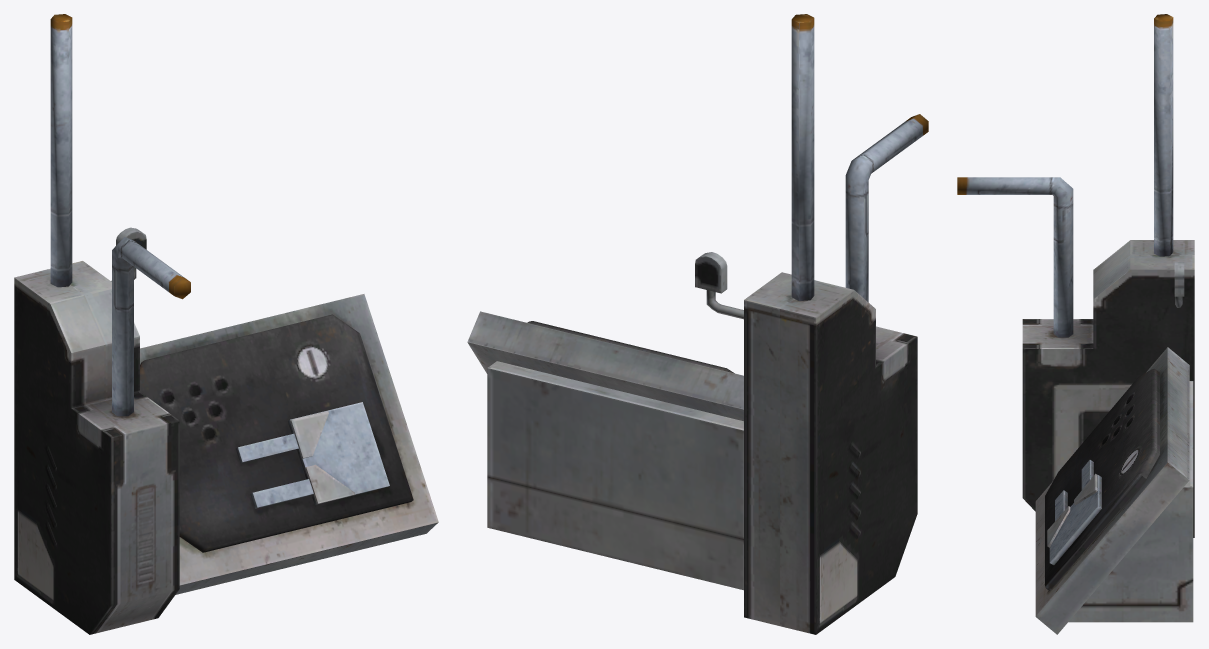
File: scanner_antenna.DAE
3 renders of one model, left to right at view 1: azimuth 30°, elevation 25°; view 2: azimuth 150°, elevation 25°; view 3: azimuth 270°, elevation 25°, orthographic. The views are drawn at different scales.
Parts seen in each view (by area): view 1: scanner_antenna002; view 2: scanner_antenna002; view 3: scanner_antenna002.
Part boxes in pixels (box(x1,y1,x2,y2)): scanner_antenna002: box(14, 14, 438, 634); scanner_antenna002: box(467, 14, 928, 634); scanner_antenna002: box(957, 14, 1194, 634).
Bounding box in the file's own units: 0.6176 × 0.9987 × 0.4271.
